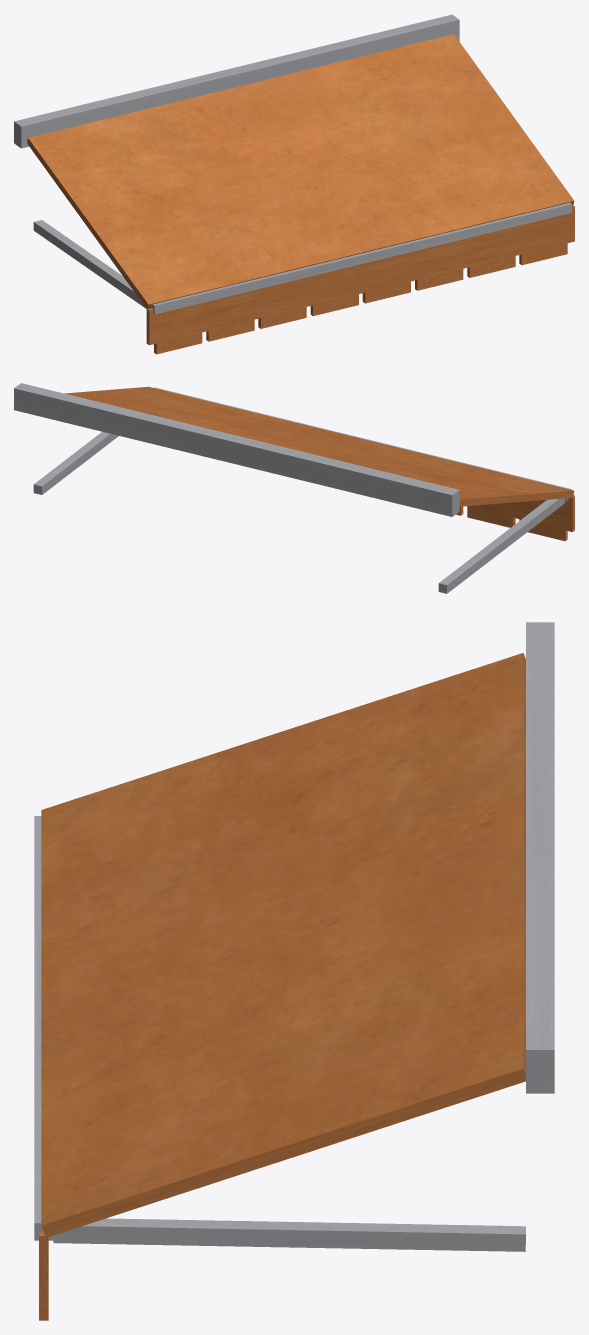
The model's file is Awning.fbx.
3 renders of one model, top to bottom at view 1: azimuth 30°, elevation 25°; view 2: azimuth 150°, elevation 25°; view 3: azimuth 270°, elevation 25°, orthographic. The views are drawn at different scales.
Parts seen in each view (by area): view 1: Awning; view 2: Awning; view 3: Awning.
Part boxes in pixels (x1,y1,x2,y2): Awning: (14,14,574,354); Awning: (14,383,574,593); Awning: (34,622,554,1320).
Size of the model in its own units: 2.1 by 0.65 by 1.08.
